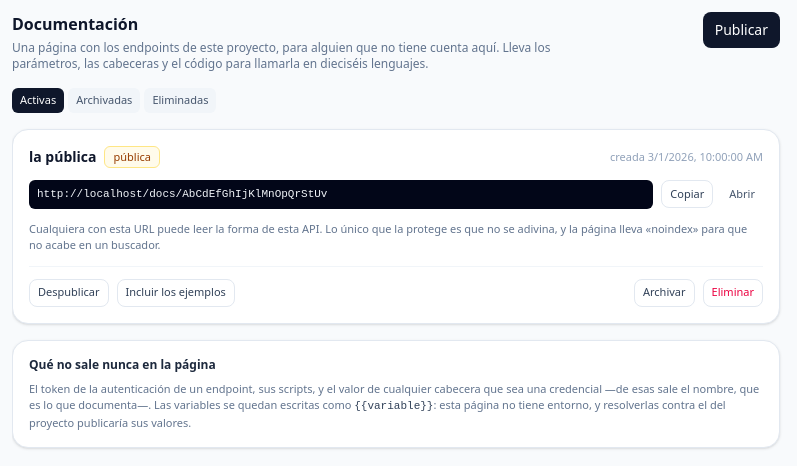
Test: los tres filtros de la documentación › cada uno pide su lista, y en femenino: «Archivadas», «Eliminadas»
Expected: the text "la pública" is shown, [29, 147, 96, 167]
Click the tab "Archivadas".
click(104, 100)  # box [68, 88, 140, 112]
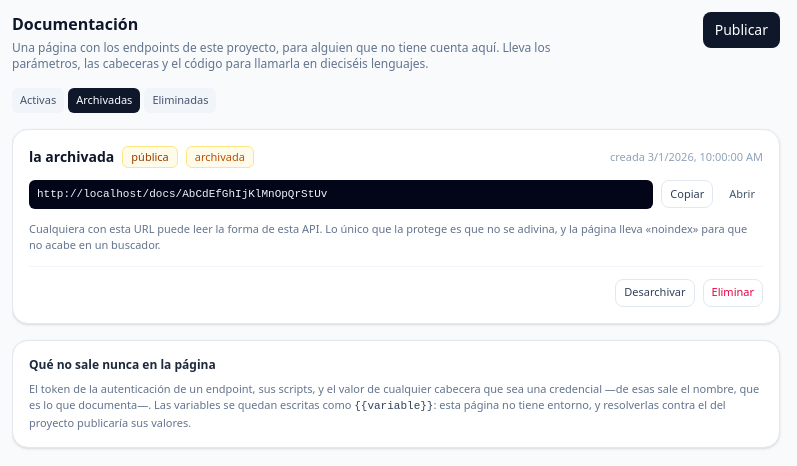
Expected: the text "la archivada" is shown, [29, 147, 114, 167]
Expected: the text "archivada" is shown, [186, 146, 254, 168]
Expected: the button "Despublicar" is gone
Click the tab "Eliminadas".
click(180, 100)  # box [144, 88, 216, 112]
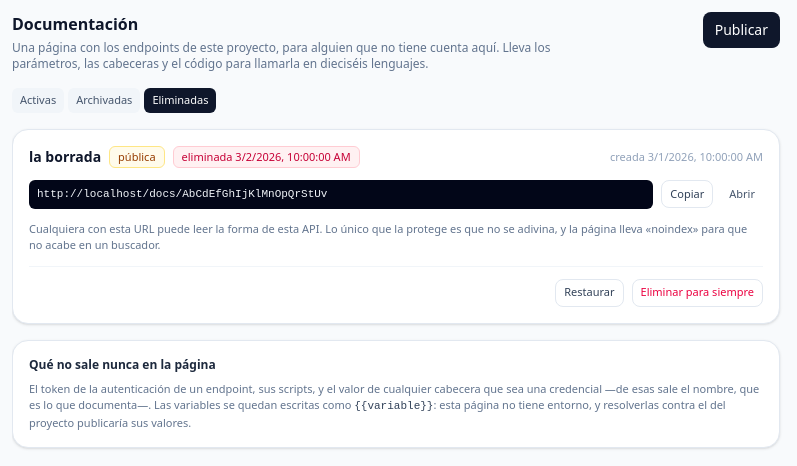
Expected: the text "la borrada" is shown, [29, 147, 101, 167]
Expected: the text "eliminada 3/2/2026, 10:00:00 AM" is shown, [173, 146, 360, 168]
